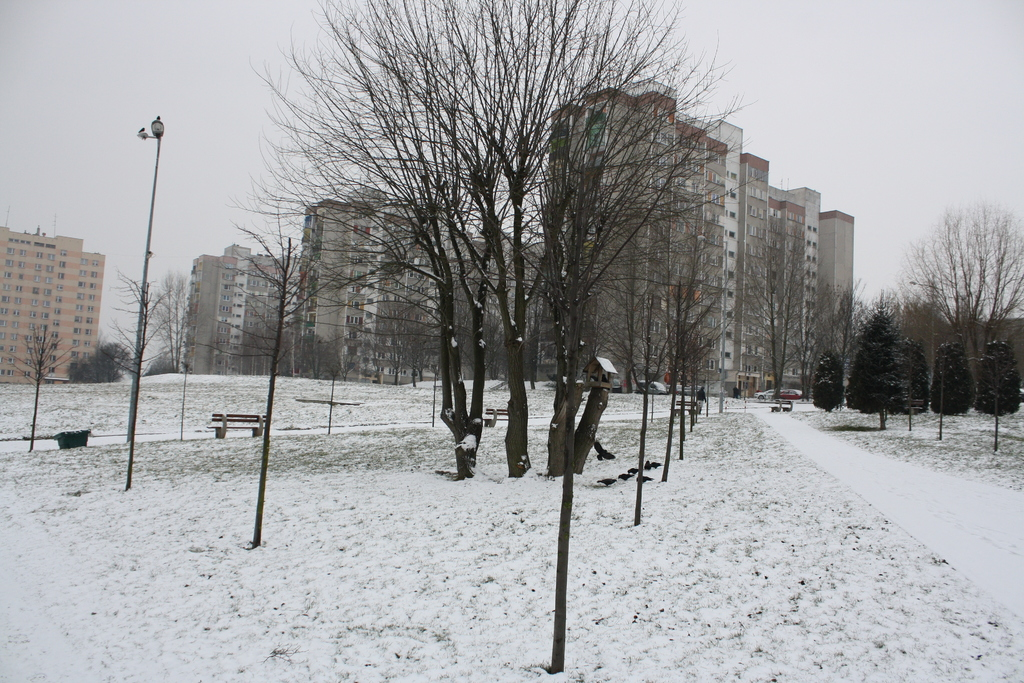Tree: (231, 0, 741, 485), (213, 236, 348, 522), (899, 194, 1022, 413), (584, 211, 665, 411), (109, 269, 192, 445), (748, 244, 819, 391), (629, 279, 718, 390), (12, 307, 76, 447), (805, 272, 858, 406), (851, 279, 905, 404), (286, 333, 361, 392), (65, 338, 134, 394)
